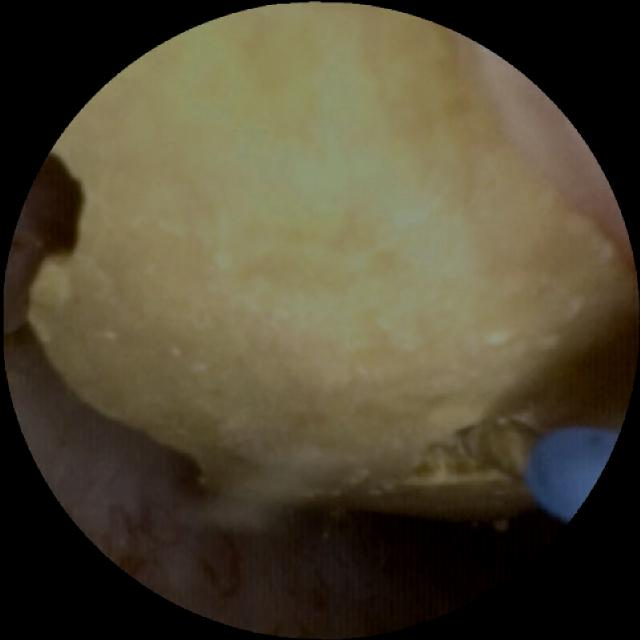fiber: (529, 429, 607, 518)
stone: (31, 5, 633, 515)
